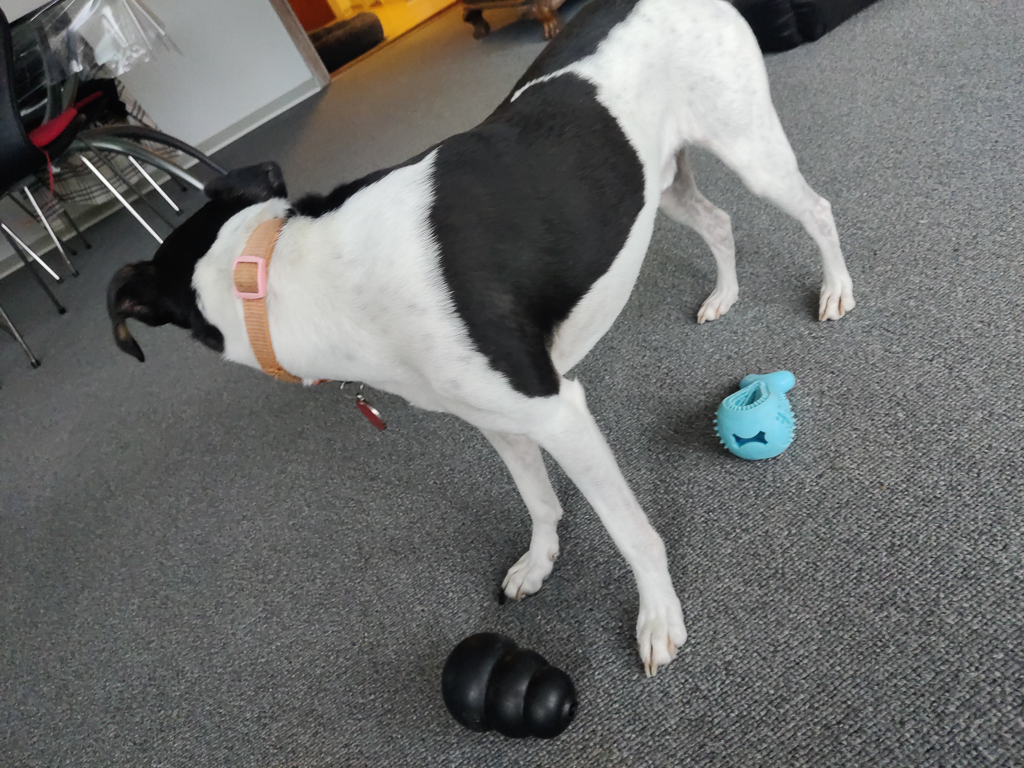Dog: (89, 0, 869, 698)
